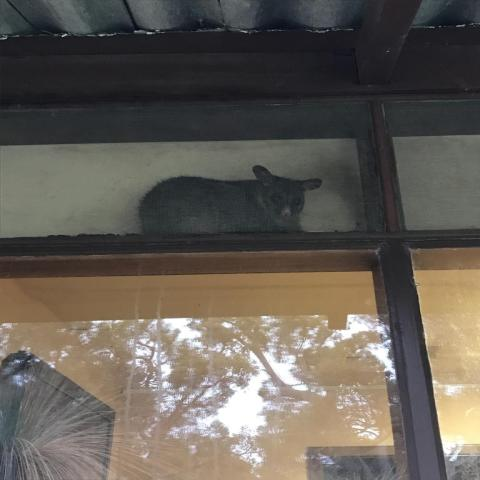small_animal: (135, 164, 324, 236)
